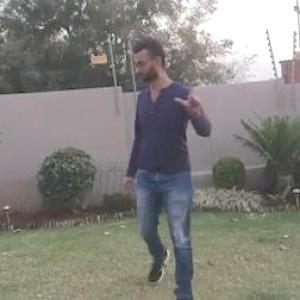land_hand: (174, 75, 206, 118)
